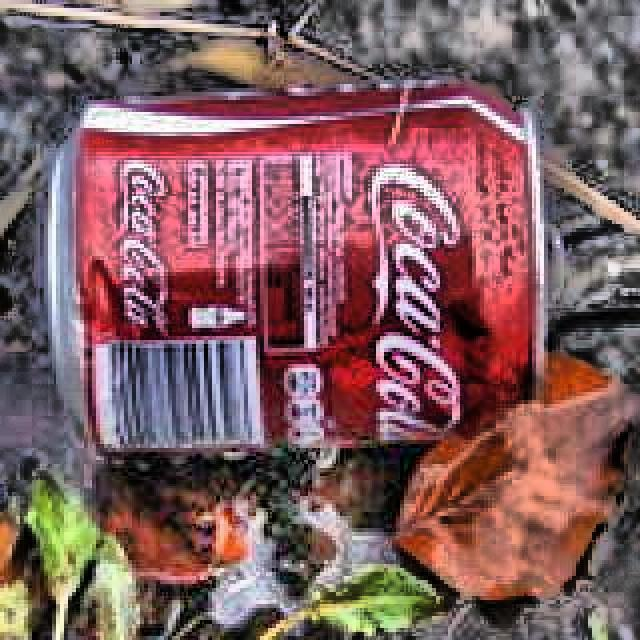metal: (41, 74, 568, 460)
